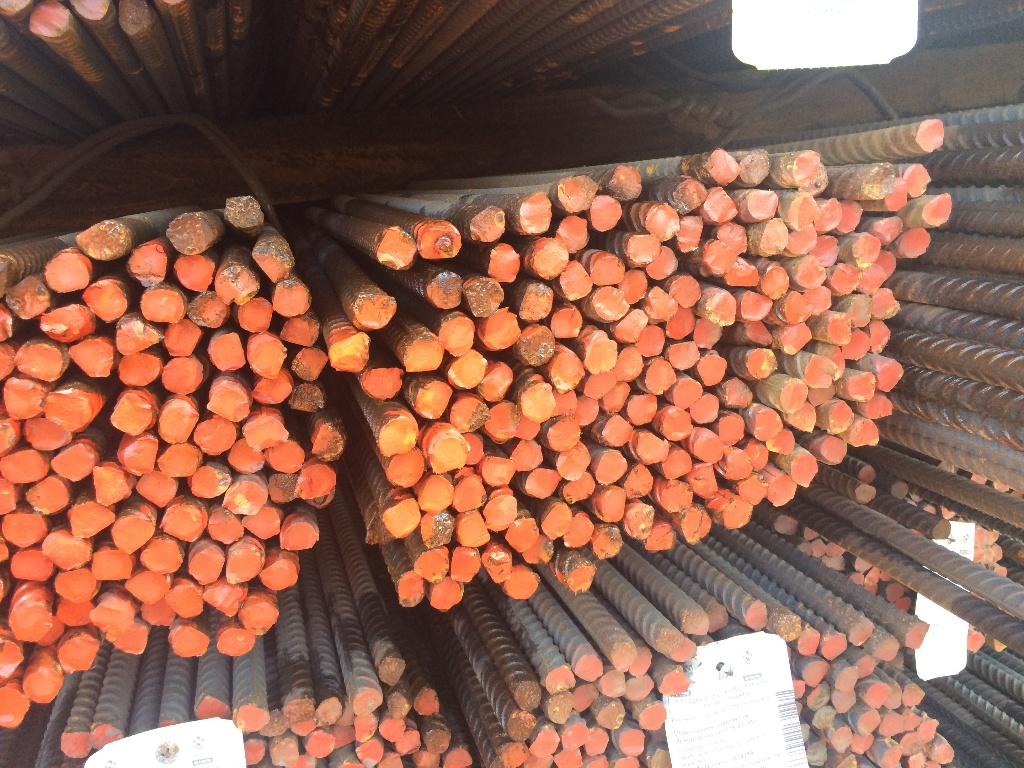dipstick: (166, 212, 214, 255), (78, 219, 128, 260), (41, 305, 94, 341), (6, 276, 49, 319), (110, 393, 153, 436), (252, 238, 294, 282), (117, 316, 164, 355), (44, 252, 89, 292), (44, 532, 92, 569), (46, 391, 90, 431), (16, 343, 62, 381), (24, 415, 72, 451), (215, 266, 259, 305), (377, 226, 417, 268), (159, 401, 198, 444), (249, 334, 287, 378), (69, 341, 114, 378), (4, 377, 44, 418), (382, 497, 421, 539), (482, 308, 521, 350), (128, 244, 166, 287), (68, 504, 114, 539), (87, 282, 127, 322), (26, 476, 68, 514), (161, 504, 203, 542), (353, 293, 397, 329), (329, 332, 368, 372), (94, 465, 132, 506), (161, 357, 203, 394), (51, 444, 93, 481), (428, 436, 468, 474), (223, 480, 267, 514), (139, 289, 184, 322), (242, 415, 287, 448), (378, 416, 417, 454), (31, 1, 68, 41), (141, 538, 182, 574), (420, 222, 461, 258), (439, 316, 475, 357), (3, 513, 45, 548), (207, 386, 250, 420), (209, 333, 246, 372), (174, 255, 214, 291), (187, 292, 227, 328), (195, 419, 235, 455), (534, 238, 568, 280), (1, 450, 44, 483), (585, 330, 617, 374), (272, 281, 310, 318), (120, 436, 158, 473), (386, 450, 423, 488), (448, 351, 485, 389), (136, 473, 177, 507), (264, 440, 305, 474), (295, 464, 336, 498), (118, 354, 160, 387), (518, 192, 551, 234), (465, 280, 503, 316), (416, 381, 452, 419), (12, 606, 51, 641), (59, 636, 98, 671), (558, 176, 597, 211), (191, 467, 232, 500), (253, 373, 293, 406), (239, 603, 279, 636), (403, 339, 443, 372), (521, 325, 554, 365), (55, 568, 96, 600), (11, 550, 53, 581), (166, 320, 201, 357), (226, 548, 261, 585), (470, 205, 505, 242), (427, 271, 462, 308), (450, 397, 487, 432), (114, 517, 152, 551), (421, 510, 455, 548), (519, 283, 553, 321), (224, 195, 263, 228), (94, 600, 133, 633), (521, 383, 554, 422), (646, 202, 679, 241), (552, 352, 584, 392), (361, 367, 402, 398), (456, 511, 490, 548), (159, 445, 197, 478), (707, 149, 740, 187), (204, 586, 245, 616), (127, 573, 168, 603), (292, 348, 328, 382), (414, 548, 450, 582), (419, 476, 453, 512), (487, 403, 520, 440), (488, 243, 519, 282), (561, 261, 592, 300), (238, 298, 272, 333), (208, 509, 242, 544), (190, 548, 224, 583), (25, 670, 61, 703), (593, 286, 629, 319), (706, 187, 738, 224), (312, 423, 343, 461), (591, 195, 622, 233), (281, 317, 320, 347), (92, 550, 131, 580), (1, 688, 30, 728), (168, 585, 203, 618), (481, 366, 513, 402), (243, 508, 280, 539), (230, 439, 263, 473), (453, 477, 486, 511), (673, 179, 706, 213), (548, 416, 580, 451), (485, 495, 516, 531), (557, 216, 588, 252), (611, 165, 642, 201), (646, 286, 677, 322), (557, 447, 591, 479), (704, 240, 736, 274), (262, 559, 298, 589), (172, 628, 209, 657), (864, 162, 893, 199), (792, 149, 820, 187), (430, 578, 462, 611), (645, 359, 676, 393), (740, 149, 770, 184), (625, 464, 654, 500), (788, 195, 817, 231), (760, 218, 788, 255), (595, 452, 627, 484), (562, 473, 595, 504), (595, 489, 626, 522), (635, 432, 668, 463), (113, 625, 147, 655), (451, 549, 481, 583), (508, 518, 538, 552), (281, 522, 318, 549), (661, 409, 692, 441), (541, 505, 571, 538), (592, 255, 625, 285), (670, 275, 700, 308), (782, 323, 812, 356), (290, 384, 324, 413), (526, 469, 560, 498), (723, 496, 752, 530), (678, 215, 703, 254), (816, 197, 842, 234), (717, 223, 748, 254), (483, 456, 515, 486), (740, 290, 772, 320), (661, 482, 693, 512), (745, 349, 777, 379), (649, 247, 678, 280), (683, 509, 711, 543), (658, 668, 692, 696), (398, 569, 423, 607), (512, 439, 542, 470), (603, 415, 633, 446), (551, 308, 582, 338), (377, 655, 406, 687), (625, 506, 654, 538), (841, 329, 870, 361), (784, 292, 813, 324), (922, 194, 951, 226), (57, 601, 94, 626), (236, 703, 269, 731), (667, 308, 695, 341), (761, 267, 789, 300), (903, 164, 931, 197), (505, 572, 539, 599), (627, 234, 661, 261), (709, 291, 736, 325), (853, 232, 880, 266), (692, 463, 718, 498), (545, 665, 575, 695), (738, 475, 767, 506), (831, 265, 862, 294), (797, 256, 826, 287), (901, 227, 930, 258), (594, 527, 622, 559), (668, 341, 700, 369), (872, 287, 900, 319), (617, 348, 644, 381), (828, 401, 854, 435), (622, 270, 647, 305), (482, 553, 512, 582), (747, 191, 777, 220), (698, 356, 727, 386), (690, 394, 719, 424), (768, 477, 797, 507), (596, 700, 626, 729), (849, 419, 879, 448), (637, 326, 665, 357), (725, 378, 753, 409), (507, 710, 535, 741), (784, 404, 815, 432), (629, 394, 656, 426), (917, 119, 944, 151), (584, 373, 617, 399), (806, 355, 832, 388), (694, 434, 723, 463), (846, 372, 875, 401), (645, 524, 675, 552), (695, 319, 723, 349), (791, 454, 815, 489), (514, 680, 542, 710), (547, 693, 574, 724), (354, 688, 383, 716), (673, 381, 702, 409), (267, 473, 294, 503), (755, 410, 782, 440), (719, 416, 745, 447), (781, 380, 807, 411), (61, 732, 92, 758), (142, 601, 174, 626), (604, 382, 629, 414), (567, 564, 595, 592), (664, 451, 692, 479), (561, 723, 589, 751), (575, 654, 603, 682), (565, 520, 594, 547), (618, 730, 647, 757), (787, 229, 816, 256), (873, 216, 902, 243), (523, 538, 553, 564), (877, 361, 902, 392), (745, 439, 768, 472), (501, 741, 529, 768), (821, 436, 848, 464), (802, 286, 830, 313), (726, 451, 752, 480), (530, 730, 559, 756), (859, 265, 885, 294), (727, 262, 758, 286), (828, 313, 851, 345), (839, 201, 862, 233), (600, 669, 626, 697), (849, 295, 871, 328), (625, 676, 654, 701), (824, 346, 845, 380), (816, 235, 839, 266), (745, 600, 767, 632), (869, 321, 891, 353), (640, 704, 666, 731), (743, 322, 772, 346), (585, 727, 609, 756), (668, 639, 697, 663), (765, 431, 794, 455), (284, 699, 314, 722), (307, 731, 333, 757), (356, 741, 382, 767), (864, 682, 890, 708), (681, 611, 708, 636), (849, 620, 874, 647), (414, 687, 438, 715), (611, 643, 635, 671), (705, 603, 728, 632), (887, 178, 907, 211), (464, 434, 485, 465), (395, 730, 421, 755), (574, 684, 599, 710), (867, 394, 892, 420), (807, 682, 831, 709), (317, 699, 342, 724), (821, 634, 846, 659), (802, 660, 827, 685), (379, 718, 405, 742), (630, 649, 652, 677), (797, 628, 819, 656), (425, 729, 450, 753), (906, 623, 930, 648), (832, 689, 856, 714), (778, 615, 801, 641), (354, 714, 376, 741), (806, 384, 835, 404), (874, 638, 899, 661), (902, 683, 925, 707), (834, 666, 856, 691), (857, 709, 879, 734), (832, 726, 851, 754), (813, 706, 836, 729), (854, 656, 878, 678), (388, 692, 408, 718), (881, 715, 904, 737), (852, 733, 875, 754), (932, 743, 955, 762), (807, 741, 827, 762), (966, 632, 985, 654)
